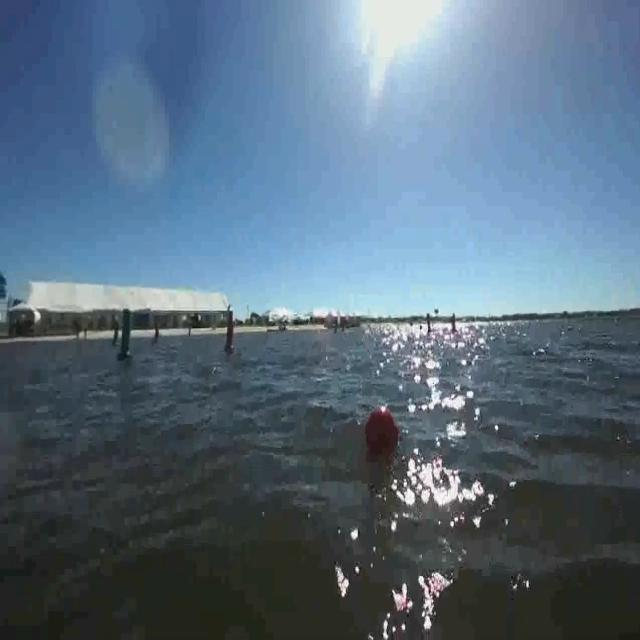green-column-buoy: (117, 309, 136, 362)
red-buoy: (364, 404, 399, 456)
red-column-buoy: (223, 314, 237, 354), (152, 321, 160, 341)
